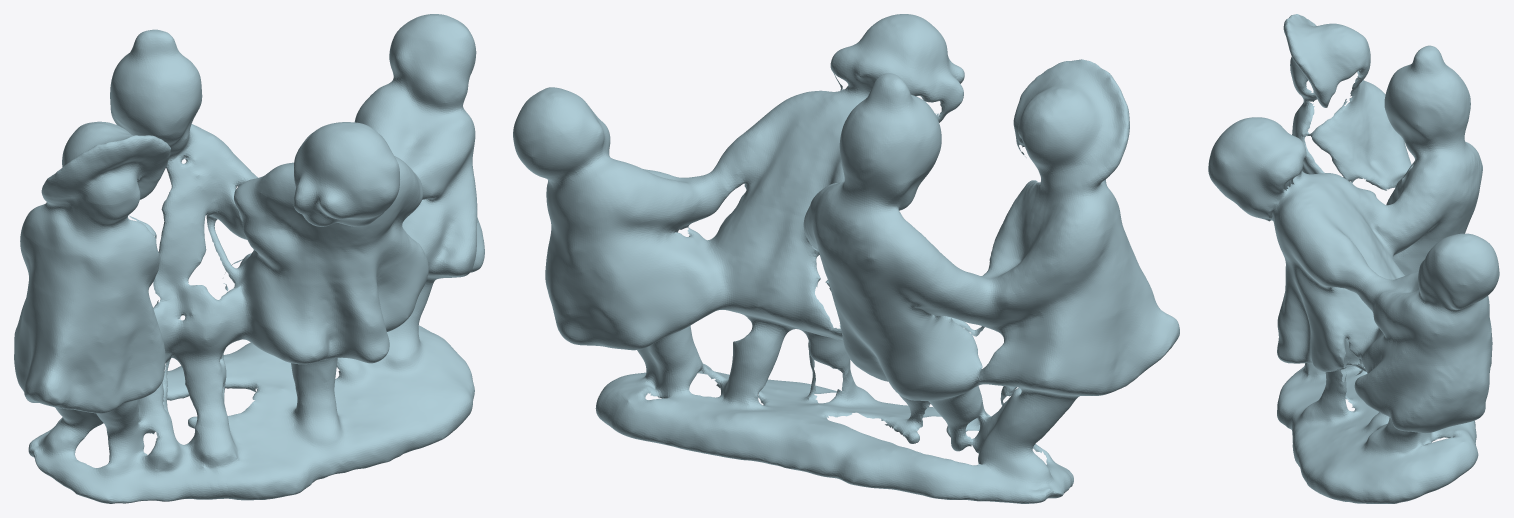
3 renders of one model, left to right at view 1: azimuth 30°, elevation 25°; view 2: azimuth 150°, elevation 25°; view 3: azimuth 270°, elevation 25°, orthographic. The views are drawn at different scales.
Visible parts, largest first — view 1: dc_ours.obj; view 2: dc_ours.obj; view 3: dc_ours.obj.
Boxes of the visible parts, box(x1,y1,x2,y2) form: dc_ours.obj: box(14, 14, 484, 503); dc_ours.obj: box(513, 14, 1179, 503); dc_ours.obj: box(1208, 14, 1499, 503).
Size of the model in its own units: 1 by 0.7442 by 0.5598.
